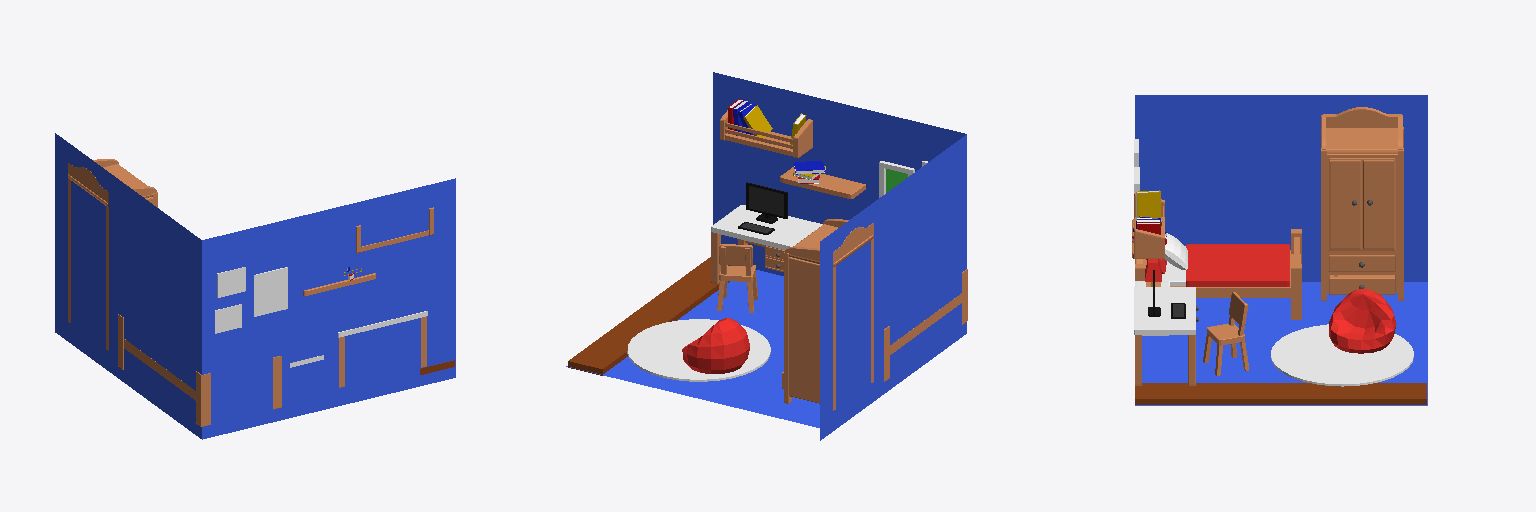
The model's file is room.obj.
3 renders of one model, left to right at view 1: azimuth 30°, elevation 25°; view 2: azimuth 150°, elevation 25°; view 3: azimuth 270°, elevation 25°, orthographic.
Parts seen in each view (by area): view 1: Wall, Wardrobe_1, Bed_1, Picture_1.001, Table_1, Picture_2.001, Picture_3.001, Wall_bookshelf.001; view 2: Wall, Floor, Wardrobe_1, Wood_floor_1, Carpet_1, Table_1, Seat_1, Wall_bookshelf.001, Chair_1, Bed_1, PC_1, Wall_shelf.001 (+3 smaller); view 3: Wall, Wardrobe_1, Floor, Bed_1, Wood_floor_1, Carpet_1, Seat_1, Table_1, Chair_1, Wall_bookshelf.001, Cube.008.
Part boxes in pixels (bbox=[...]): Wall: bbox=[55, 133, 455, 439]; Wardrobe_1: bbox=[68, 159, 157, 350]; Bed_1: bbox=[118, 314, 281, 426]; Picture_1.001: bbox=[254, 267, 287, 316]; Table_1: bbox=[338, 311, 427, 387]; Picture_2.001: bbox=[217, 267, 245, 297]; Picture_3.001: bbox=[215, 304, 241, 333]; Wall_bookshelf.001: bbox=[356, 207, 433, 253]; Wall: bbox=[713, 72, 966, 440]; Floor: bbox=[566, 270, 819, 427]; Wardrobe_1: bbox=[782, 219, 873, 410]; Wood_floor_1: bbox=[568, 257, 729, 375]; Carpet_1: bbox=[627, 319, 770, 381]; Table_1: bbox=[711, 205, 822, 283]; Seat_1: bbox=[682, 318, 749, 373]; Wall_bookshelf.001: bbox=[720, 110, 812, 157]; Chair_1: bbox=[717, 244, 757, 312]; Bed_1: bbox=[884, 269, 967, 381]; PC_1: bbox=[746, 182, 787, 223]; Wall_shelf.001: bbox=[780, 167, 865, 198]; Wall: bbox=[1135, 95, 1427, 281]; Wardrobe_1: bbox=[1321, 107, 1403, 300]; Floor: bbox=[1135, 282, 1427, 405]; Bed_1: bbox=[1135, 229, 1301, 319]; Wood_floor_1: bbox=[1135, 383, 1426, 404]; Carpet_1: bbox=[1271, 324, 1413, 386]; Seat_1: bbox=[1329, 289, 1396, 353]; Table_1: bbox=[1134, 287, 1198, 385]; Chair_1: bbox=[1203, 292, 1248, 375]; Wall_bookshelf.001: bbox=[1134, 193, 1164, 258]; Cube.008: bbox=[1136, 190, 1160, 218].
Bounding box in the file's own units: 8.03 × 6 × 8.09.